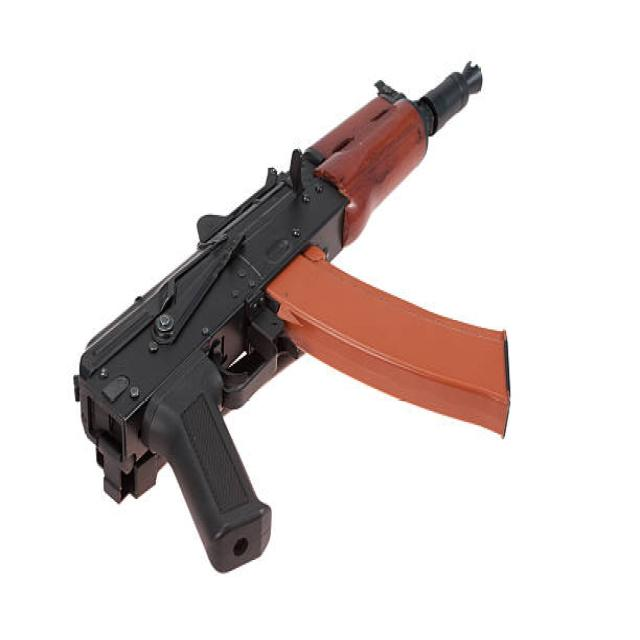rifle: (73, 35, 515, 588)
